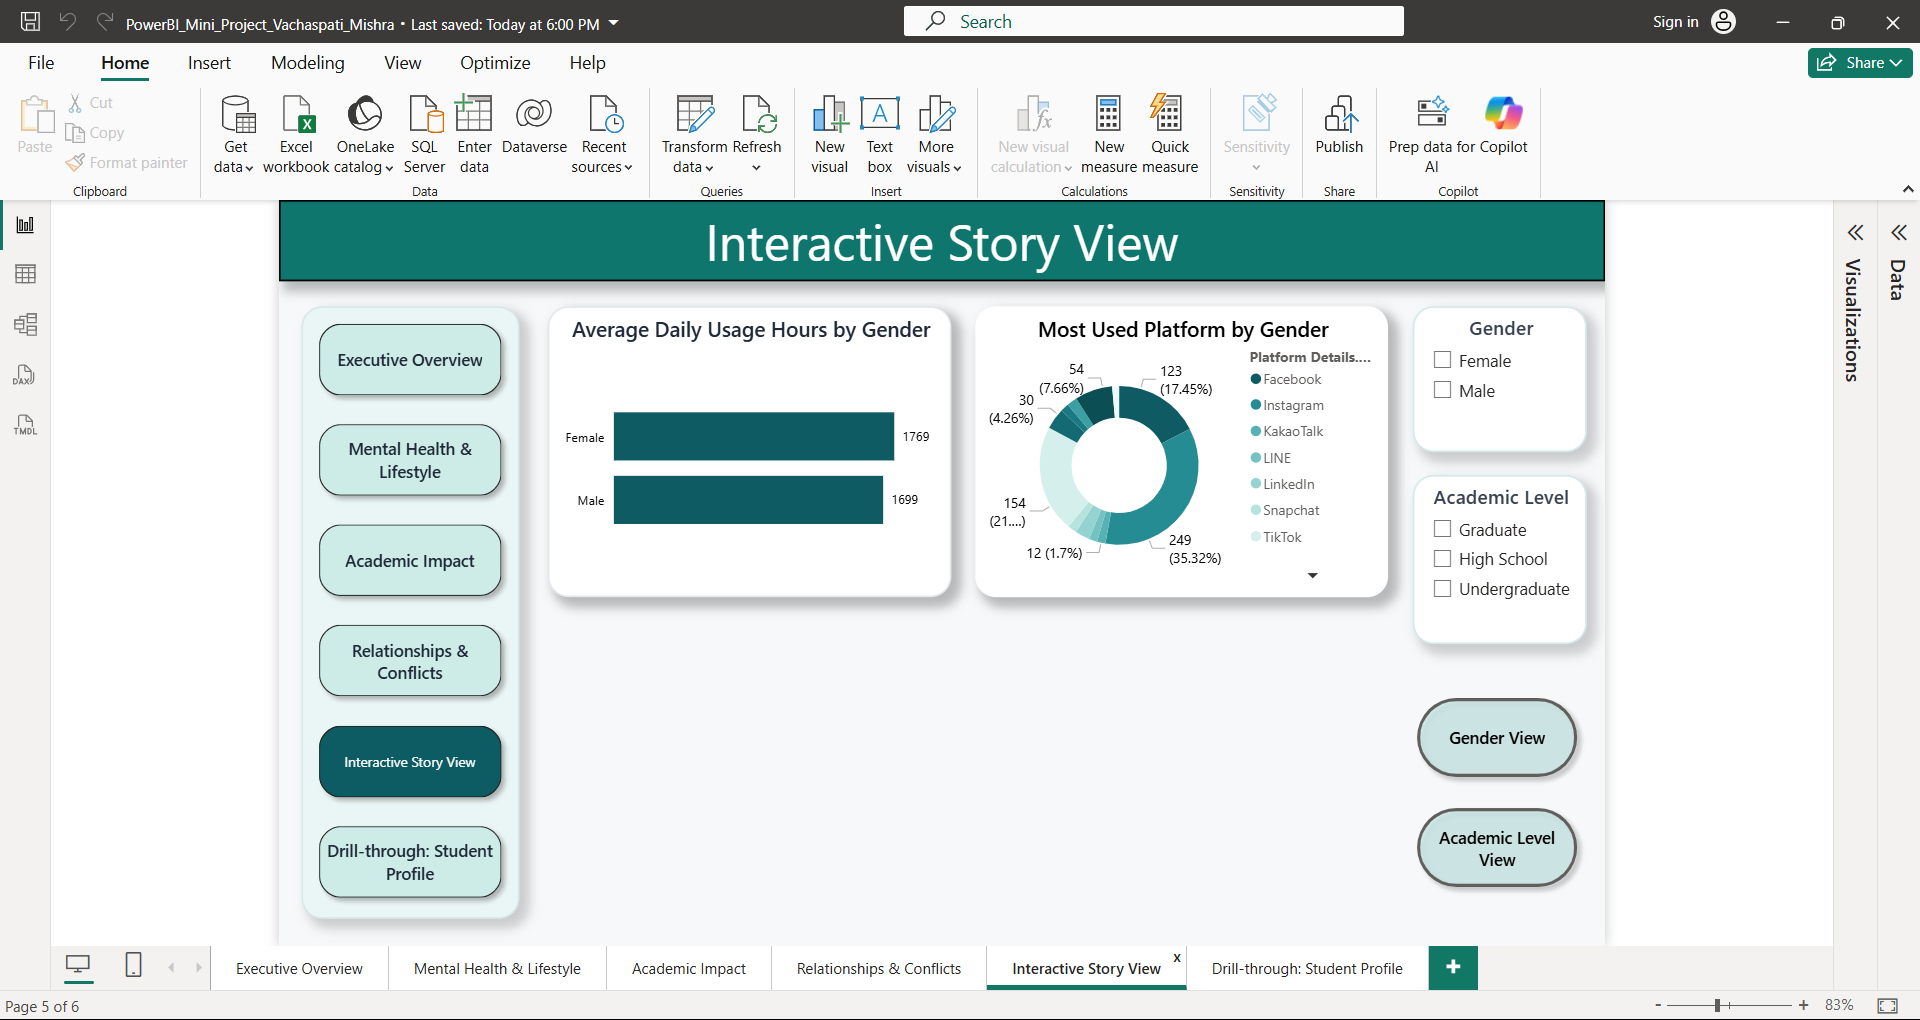

The page's visual inventory and layout, read from the dashboard file:
{"tool":"powerbi","page":{"name":"Interactive  Story View","canvas":[1280,720],"ordinal":4},"visuals":[{"type":"textbox","box":[0,0,1280.3,78.3],"z":0},{"type":"clusteredBarChart","title":"Average Daily Usage Hours by Gender","fields":{"Category":["Student Details.Gender"],"Y":["Sum(Student Details.Platform Details.Avg_Daily_Usage_Hours)"]},"box":[259.4,102.5,389.7,281.1],"z":1000},{"type":"donutChart","title":"Most Used Platform by Gender","fields":{"Category":["Student Details.Platform Details.Most_Used_Platform"],"Y":["CountNonNull(Student Details.Student_ID)"]},"box":[672,102.5,398.1,281.1],"z":2000},{"type":"actionButton","box":[1089.4,471.7,172.5,94.1],"z":5000},{"type":"actionButton","box":[1089.4,577.9,172.5,94.1],"z":6000},{"type":"slicer","title":"Gender","fields":{"Values":["Student Details.Gender"]},"box":[1094.2,102.5,167.7,141.2],"z":7000},{"type":"slicer","title":"Academic Level","fields":{"Values":["Student Details.Academic_Level"]},"box":[1094.2,265.4,167.7,162.9],"z":8000},{"type":"pageNavigator","box":[21.7,102.5,210,591.2],"z":9000}]}

Visuals, with their boxes on the page's 1280x720 design canvas (x1, y1, x2, y2). These are canvas units, not pixel positions in the 1920x1020 screenshot, which may show the page scaled, cropped or inside an application window:
textbox: left=0, top=0, right=1280, bottom=78
"Average Daily Usage Hours by Gender" clusteredBarChart: left=259, top=102, right=649, bottom=384
"Most Used Platform by Gender" donutChart: left=672, top=102, right=1070, bottom=384
actionButton: left=1089, top=472, right=1262, bottom=566
actionButton: left=1089, top=578, right=1262, bottom=672
"Gender" slicer: left=1094, top=102, right=1262, bottom=244
"Academic Level" slicer: left=1094, top=265, right=1262, bottom=428
pageNavigator: left=22, top=102, right=232, bottom=694
